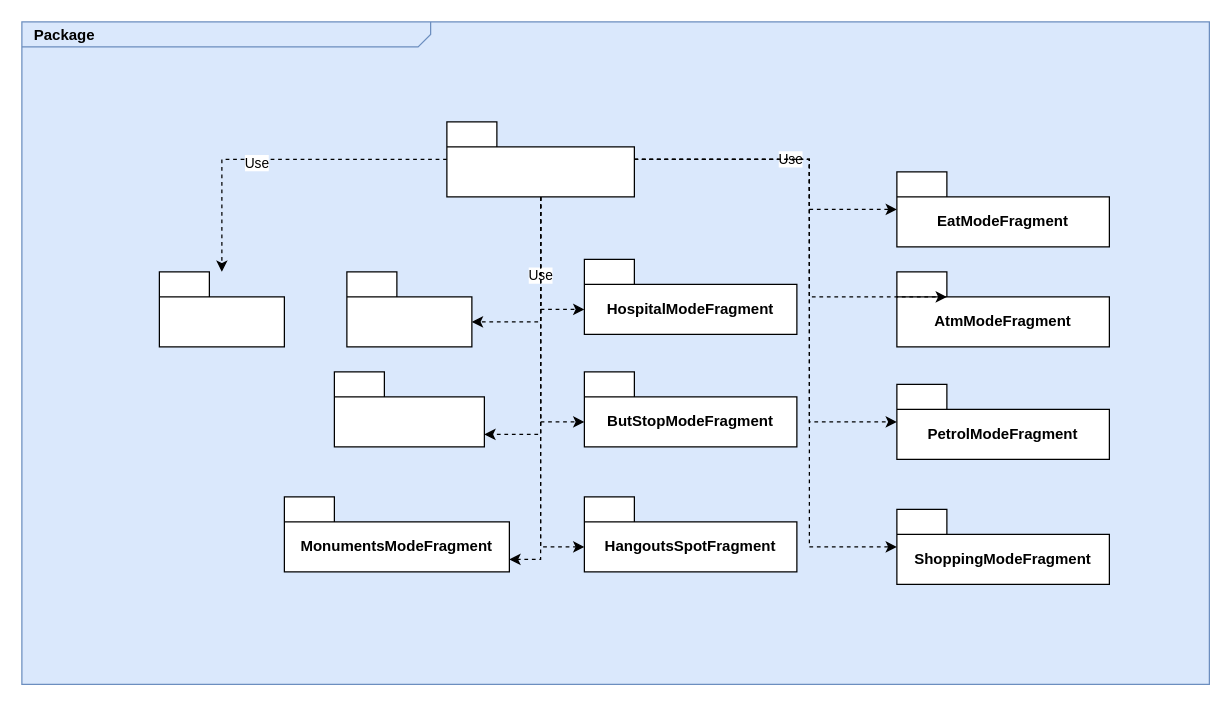
Image size: 1231x706. Some labels were removed from this diagram. The shapes that lost their labels are listed below. From the top down, each one's centre as x and y in pixels, then its label:
At pixel 540 159: "Destination".
At pixel 221 309: "FunFacts".
At pixel 409 309: "Description".
At pixel 408 409: "HangoutFragment".
